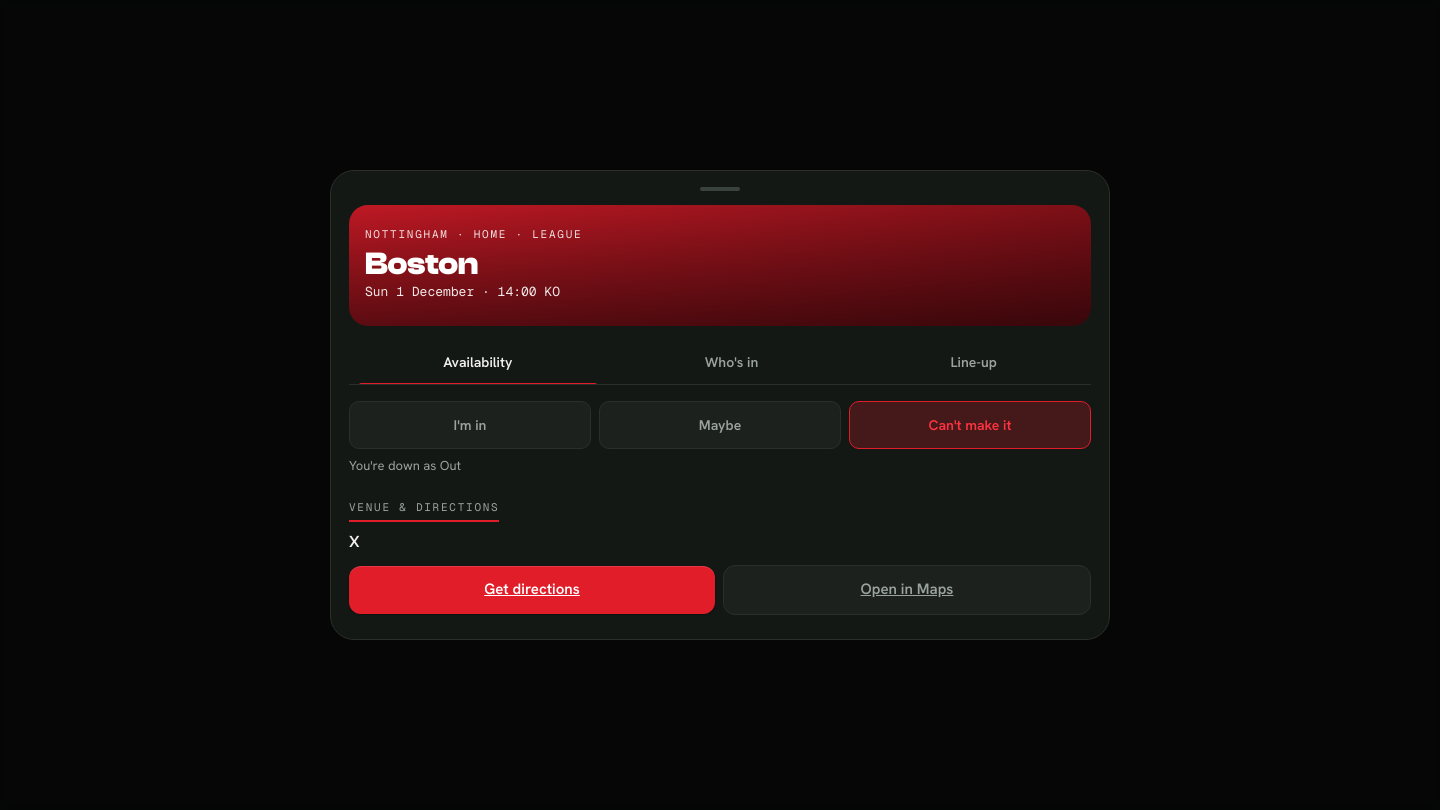
Test case: FixtureDetail — Who's in tab › a late answer for the previous fixture doesn't overwrite the current one
The image size is (1440, 810).
Click the tab "Who's in" at (732, 363), box top-left (611, 342), bottom-right (852, 384)
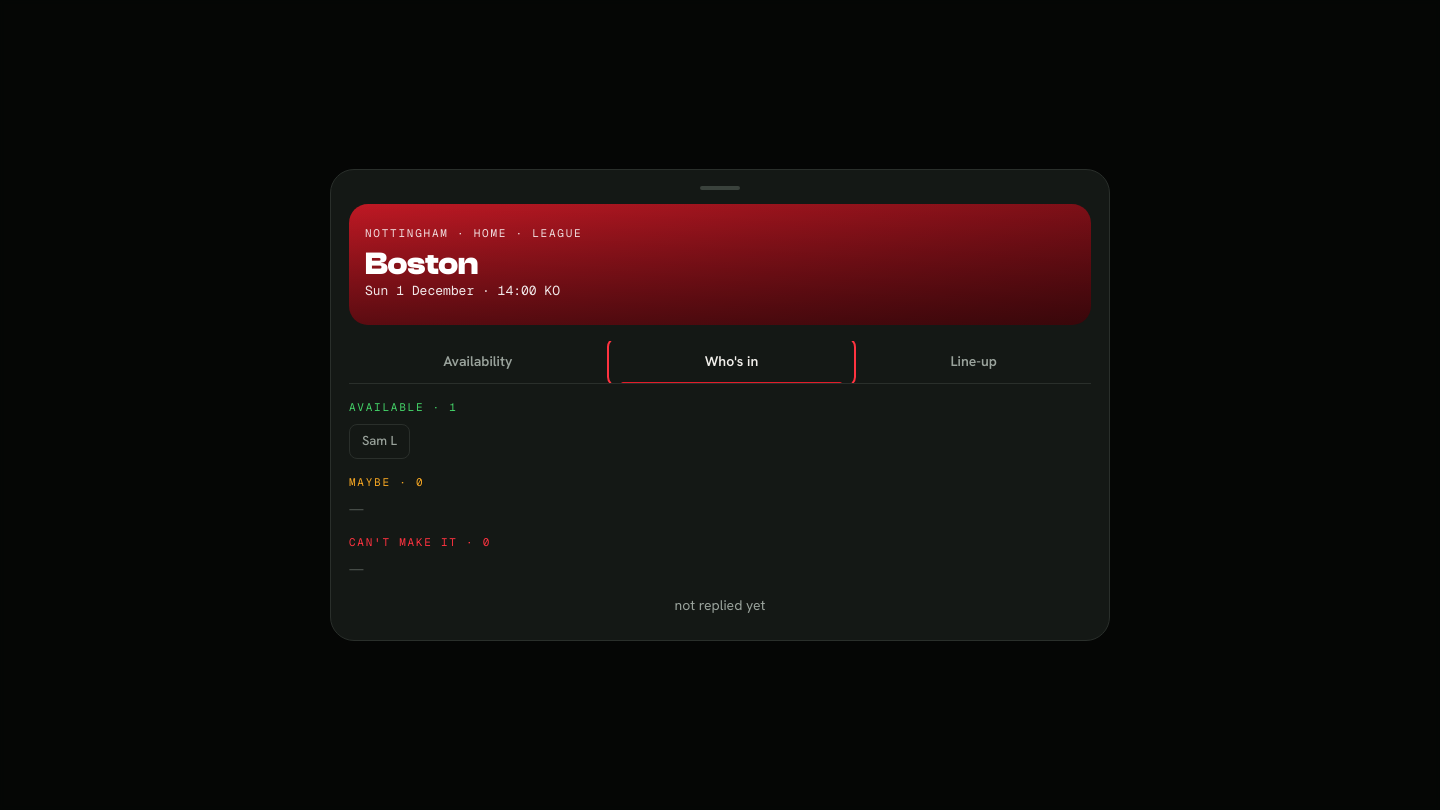
Expected: the text "Sam L" is shown, top-left (349, 424), bottom-right (410, 459)
